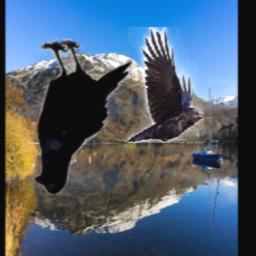Crow: (30, 38, 133, 196), (128, 27, 204, 143)
